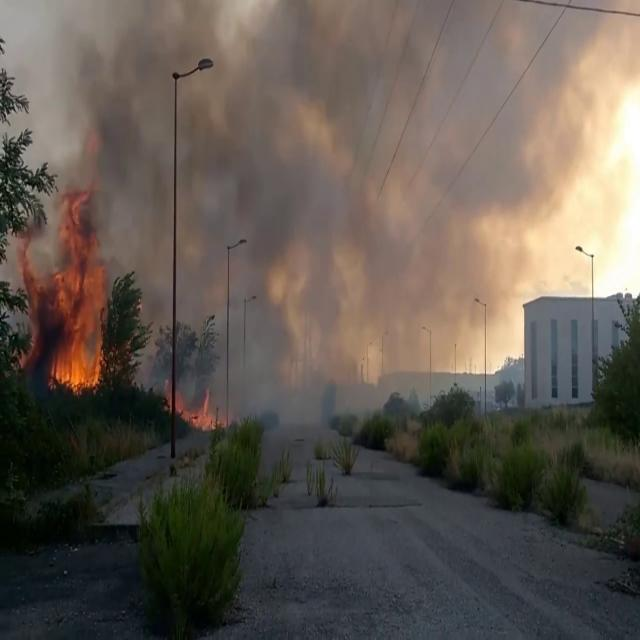Fire: (41, 187, 108, 396), (183, 394, 214, 432)
Smoke: (111, 34, 498, 332)
